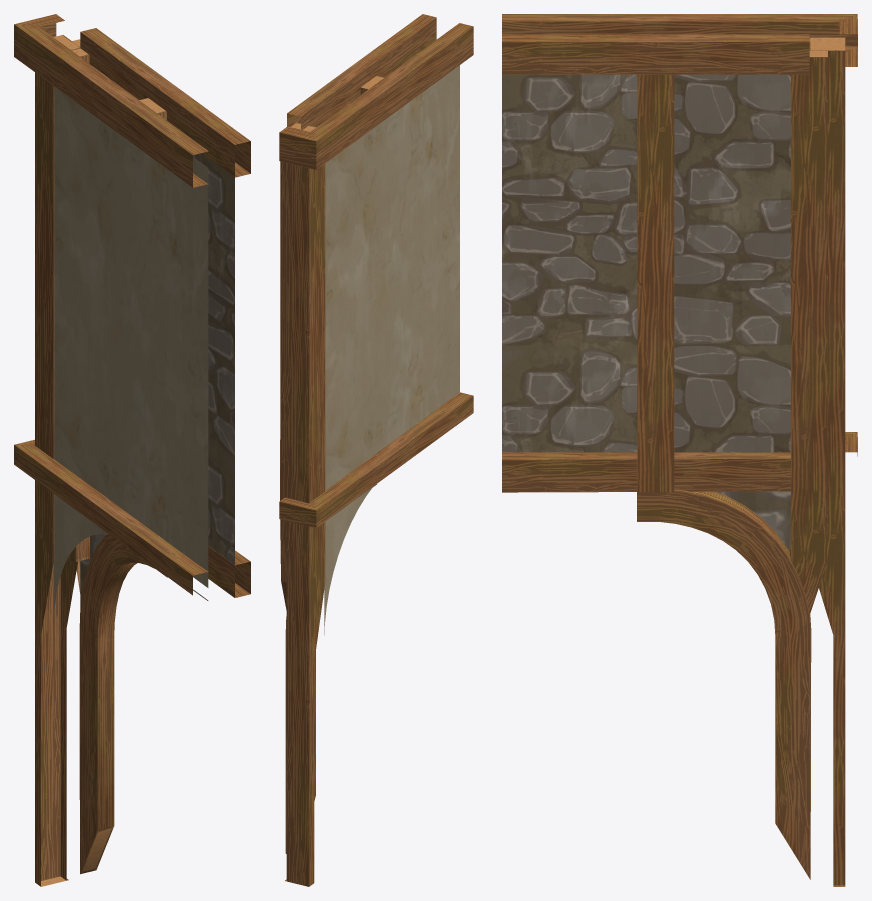
Rendered from Overhang_Side_UnevenBrick_Long_R.gltf.
The picture shows the model from 3 angles, left to right: view 1: azimuth 30°, elevation 25°; view 2: azimuth 150°, elevation 25°; view 3: azimuth 270°, elevation 25°; orthographic projection. The views are drawn at different scales.
Visible parts, largest first — view 1: Overhang_Side_UnevenBrick_Long_R; view 2: Overhang_Side_UnevenBrick_Long_R; view 3: Overhang_Side_UnevenBrick_Long_R.
Part boxes in pixels (left/top/right/bottom): Overhang_Side_UnevenBrick_Long_R: left=14, top=14, right=250, bottom=886; Overhang_Side_UnevenBrick_Long_R: left=279, top=14, right=473, bottom=886; Overhang_Side_UnevenBrick_Long_R: left=502, top=14, right=857, bottom=886.
Bounding box in the file's own units: 0.4793 × 6.12 × 2.31.
3 materials, 3 textured.
